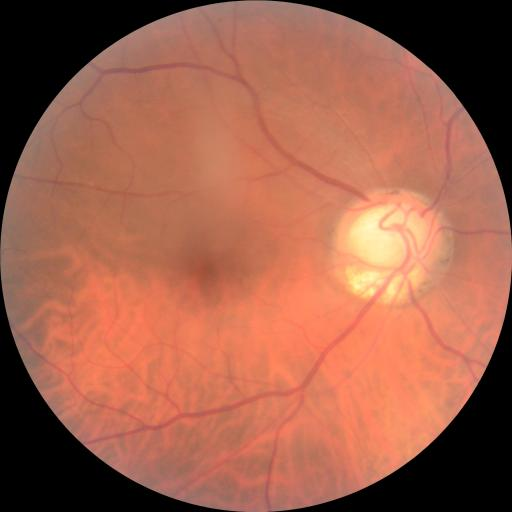Optic Cup: (349, 206, 425, 265)
Optic Disc: (334, 189, 452, 304)
